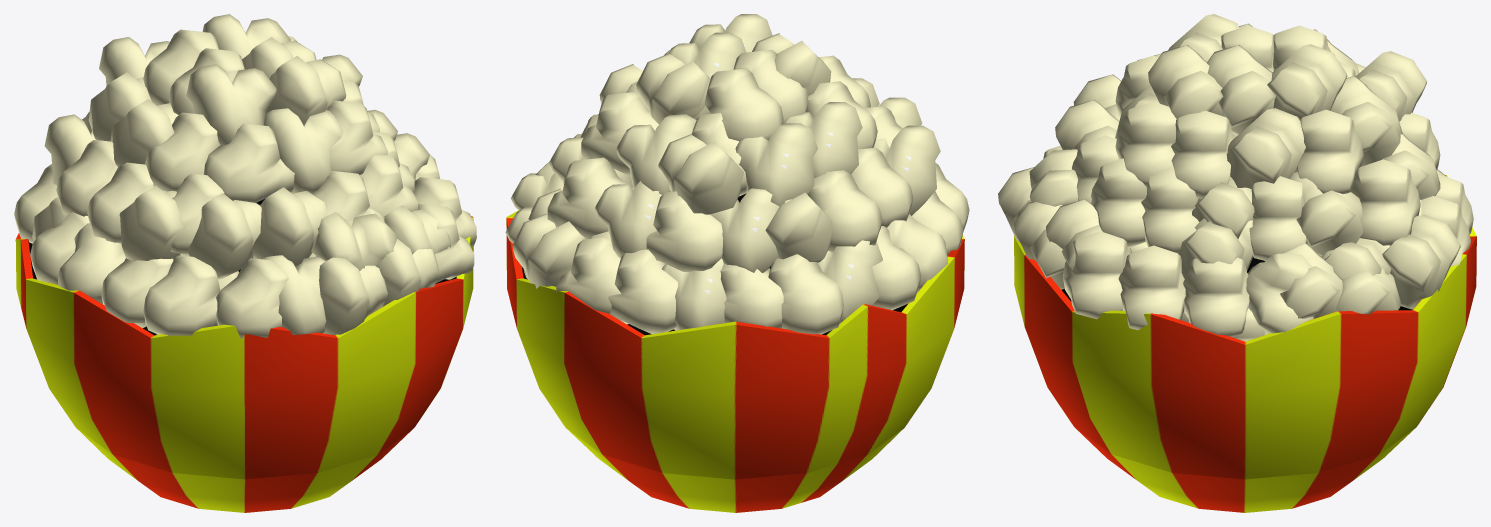
Rendered from PopcornBall.fbx.
The picture shows the model from 3 angles, left to right: view 1: azimuth 30°, elevation 25°; view 2: azimuth 150°, elevation 25°; view 3: azimuth 270°, elevation 25°; orthographic projection.
Parts seen in each view (by area): view 1: Bowl1, Popcprn125, Popcprn90, Popcprn97, Popcprn82, Popcprn84, Popcprn116, Popcprn86, Popcprn101, Popcprn100, Popcprn88, Popcprn118 (+28 smaller); view 2: Bowl1, Popcprn80, Popcprn74, Popcprn106, Popcprn132, Popcprn92, Popcprn96, Popcprn115, Popcprn110, Popcprn136, Popcprn113, Popcprn128 (+27 smaller); view 3: Bowl1, Popcprn138, Popcprn128, Popcprn113, Popcprn89, Popcprn122, Popcprn114, Popcprn70, Popcprn135, Popcprn136, Popcprn77, Popcprn118 (+28 smaller).
Boxes of the visible parts, x1,y1,x2,y2 form: Bowl1: [15, 199, 473, 512]; Popcprn125: [204, 123, 294, 202]; Popcprn90: [143, 255, 221, 335]; Popcprn97: [186, 64, 276, 144]; Popcprn82: [188, 193, 261, 279]; Popcprn84: [264, 108, 343, 193]; Popcprn116: [216, 258, 288, 338]; Popcprn86: [251, 187, 326, 266]; Popcprn101: [319, 257, 387, 335]; Popcprn100: [119, 186, 185, 261]; Popcprn88: [145, 112, 220, 192]; Popcprn118: [266, 55, 346, 125]; Bowl1: [506, 193, 964, 512]; Popcprn80: [658, 134, 743, 214]; Popcprn74: [735, 123, 817, 206]; Popcprn106: [646, 191, 722, 272]; Popcprn132: [608, 249, 678, 334]; Popcprn92: [768, 254, 843, 334]; Popcprn96: [691, 68, 783, 141]; Popcprn115: [710, 188, 779, 272]; Popcprn110: [807, 170, 882, 252]; Popcprn136: [636, 53, 710, 124]; Popcprn113: [547, 157, 633, 238]; Popcprn128: [512, 214, 586, 288]; Bowl1: [1014, 175, 1476, 512]; Popcprn138: [1226, 108, 1305, 188]; Popcprn128: [1382, 214, 1460, 309]; Popcprn113: [1351, 159, 1420, 245]; Popcprn89: [1183, 257, 1249, 337]; Popcprn122: [1296, 109, 1363, 194]; Popcprn114: [1062, 231, 1129, 319]; Popcprn70: [1118, 245, 1185, 330]; Popcprn135: [1171, 111, 1235, 198]; Popcprn136: [1267, 44, 1347, 119]; Popcprn77: [1207, 45, 1275, 134]; Popcprn118: [1148, 45, 1223, 118].
Size of the model in its own units: 20.38 by 20.85 by 21.19.
